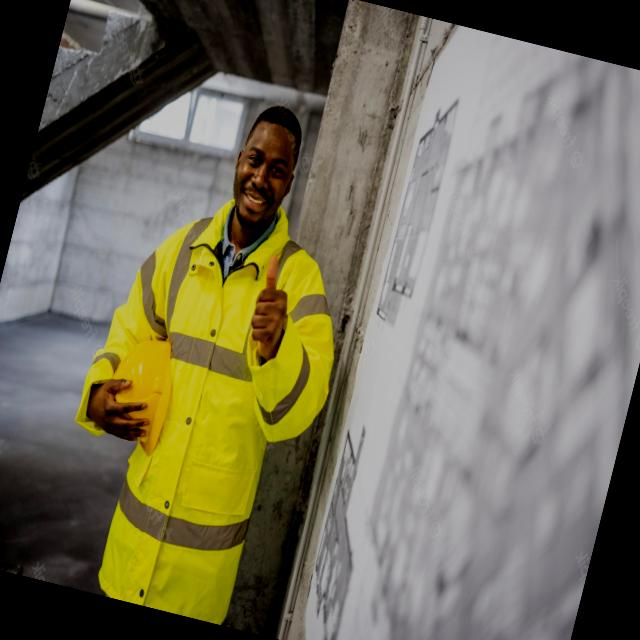helmet: (78, 312, 194, 454)
no-goggles: (227, 143, 303, 195)
no-helmet: (233, 89, 318, 171)
vest: (104, 219, 318, 626), (348, 226, 352, 232)
